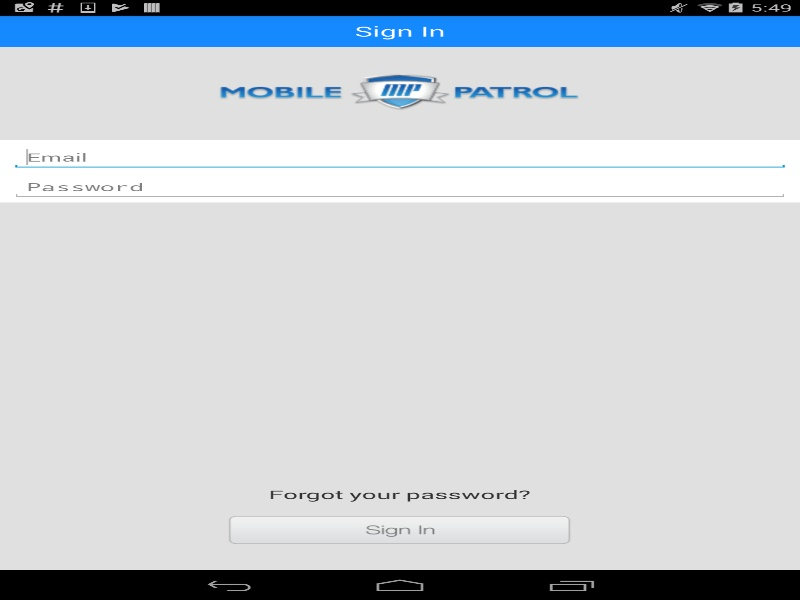Button: (227, 515, 572, 545)
Input: (10, 174, 789, 199), (10, 145, 789, 169)
